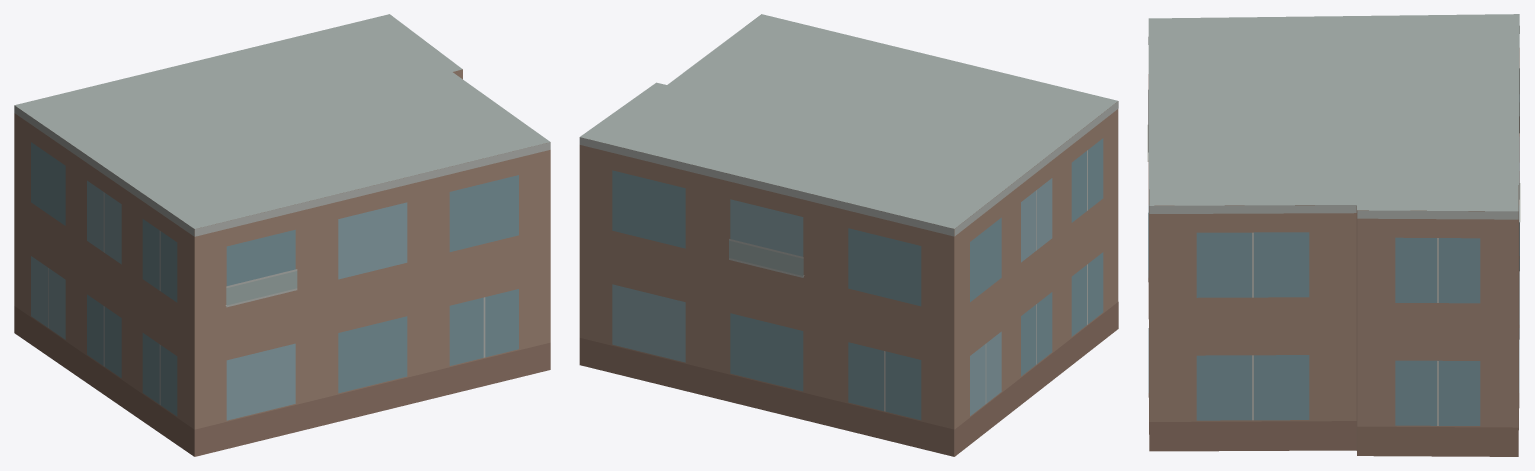
The model's file is survey-upis-32495588.glb.
3 views of the same model, side by side, from view 1: azimuth 30°, elevation 25°; view 2: azimuth 150°, elevation 25°; view 3: azimuth 270°, elevation 25° (orthographic). The views are drawn at different scales.
Parts seen in each view (by area): view 1: survey-upis-32495588.tmp; view 2: survey-upis-32495588.tmp; view 3: survey-upis-32495588.tmp.
Part boxes in pixels (left/top/right/bottom): survey-upis-32495588.tmp: left=14, top=14, right=550, bottom=456; survey-upis-32495588.tmp: left=579, top=14, right=1118, bottom=456; survey-upis-32495588.tmp: left=1147, top=14, right=1520, bottom=456.
Bounding box in the file's own units: 12.42 × 7.2 × 9.93.
